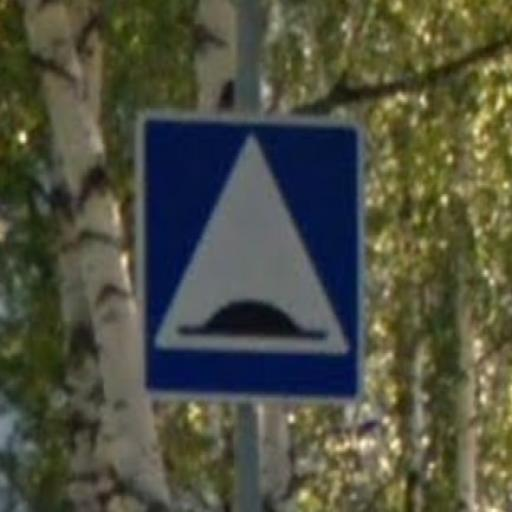traffic_sign: (136, 108, 368, 407)
